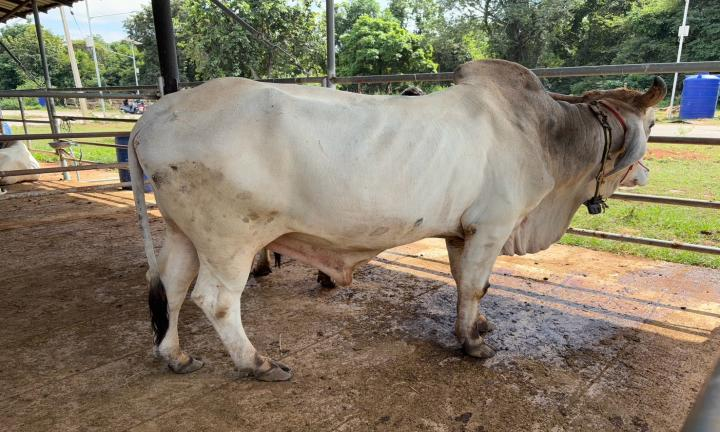Brahman: (128, 60, 666, 381)
